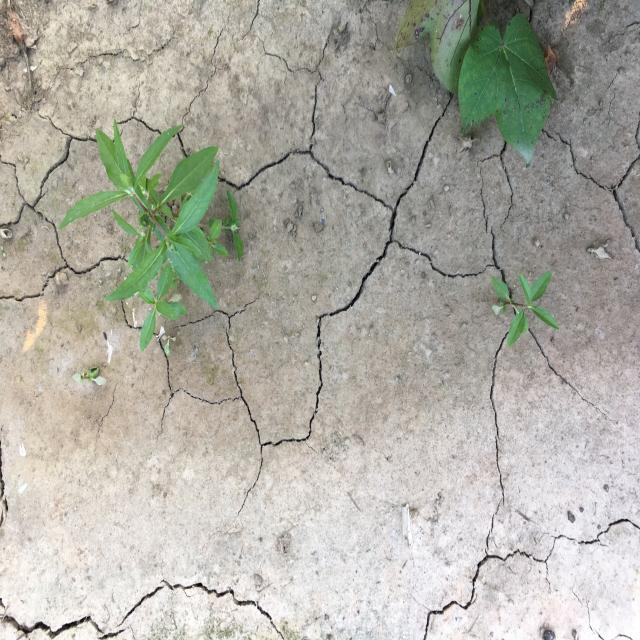Eclipta: (58, 116, 246, 353), (490, 269, 560, 348)
